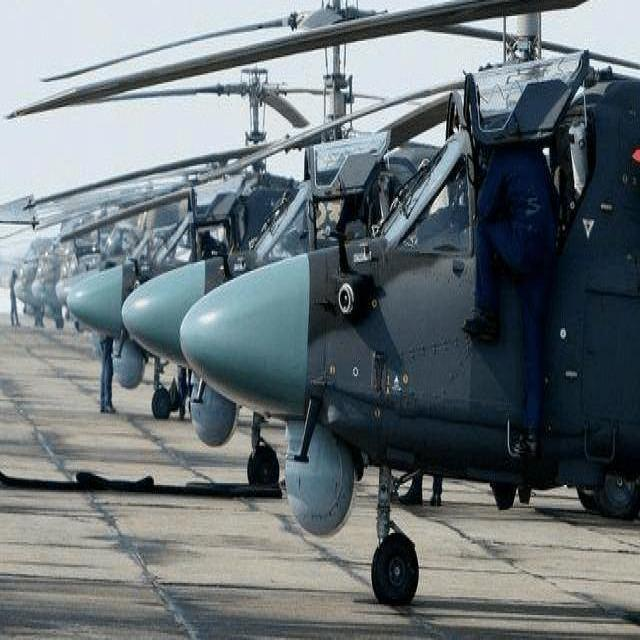MIL_HELO: (7, 0, 640, 613), (92, 4, 449, 564), (28, 61, 282, 464)
